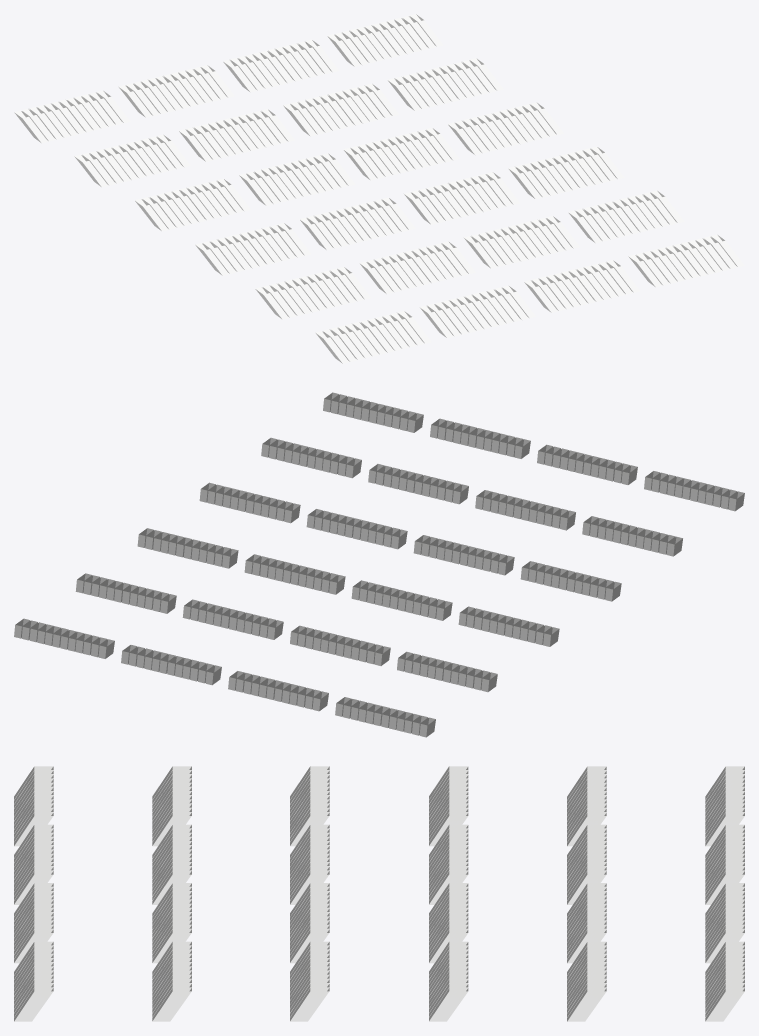
Rendered from Godrays.FBX.
The picture shows the model from 3 angles, top to bottom: view 1: azimuth 30°, elevation 25°; view 2: azimuth 150°, elevation 25°; view 3: azimuth 270°, elevation 25°; orthographic projection. The views are drawn at different scales.
Parts seen in each view (by area): view 1: no part large enough to name; view 2: no part large enough to name; view 3: godray_047, godray_071, godray_023, godray_059, godray_000, godray_035, godray_083, godray_095, godray_107, godray_155, godray_167, godray_179 (+12 smaller).
Part boxes in pixels (left/top/right/bottom): godray_047: left=290, top=987, right=329, bottom=1021; godray_071: left=14, top=987, right=53, bottom=1021; godray_023: left=705, top=987, right=744, bottom=1021; godray_059: left=152, top=987, right=191, bottom=1021; godray_000: left=567, top=987, right=606, bottom=1021; godray_035: left=429, top=987, right=468, bottom=1021; godray_083: left=152, top=929, right=191, bottom=963; godray_095: left=290, top=929, right=329, bottom=963; godray_107: left=429, top=929, right=468, bottom=963; godray_155: left=152, top=870, right=191, bottom=904; godray_167: left=290, top=870, right=329, bottom=904; godray_179: left=429, top=870, right=468, bottom=904.
Bounding box in the file's own units: 17412 × 859 × 23277.
1 material, 1 textured.
